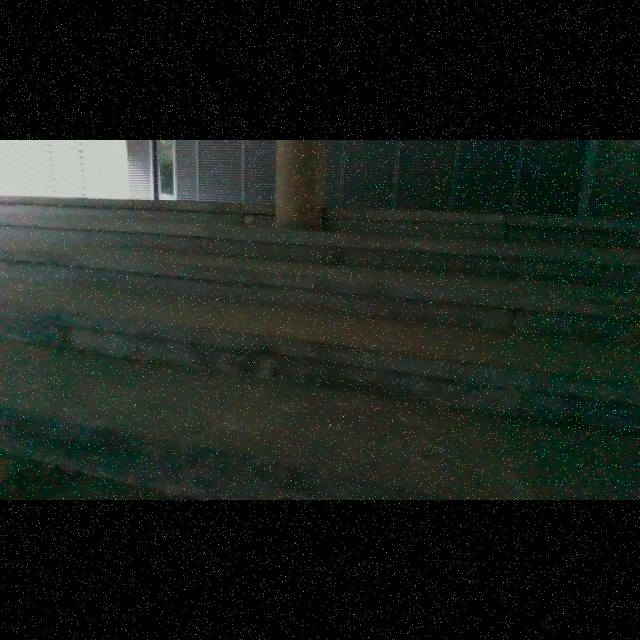stair: (8, 199, 640, 483)
